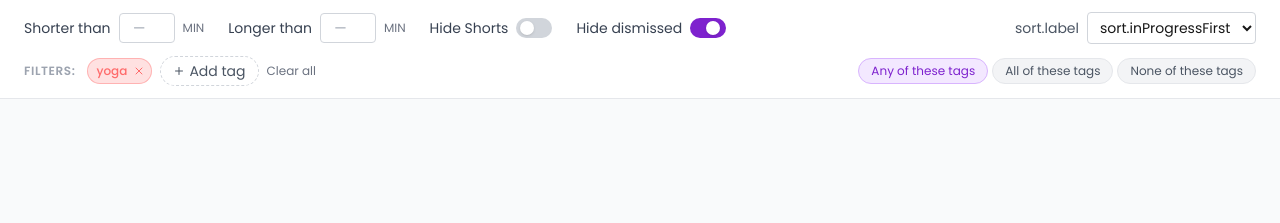
FilterButtons — Tag filter pills › dropdown does not show already-selected tags
Click the button "Add tag" at point(209, 71), box [160,56,258,86]
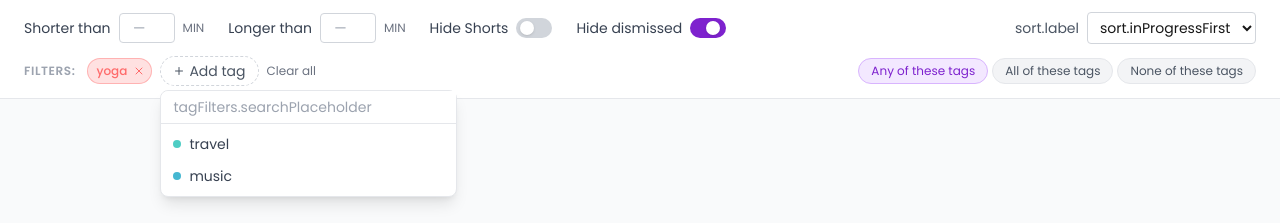
Expected: the menu with class "AddTagDropdown__menu" is shown, [160,90,457,197]
Expected: the menu item "travel" is shown, [161,128,456,160]
